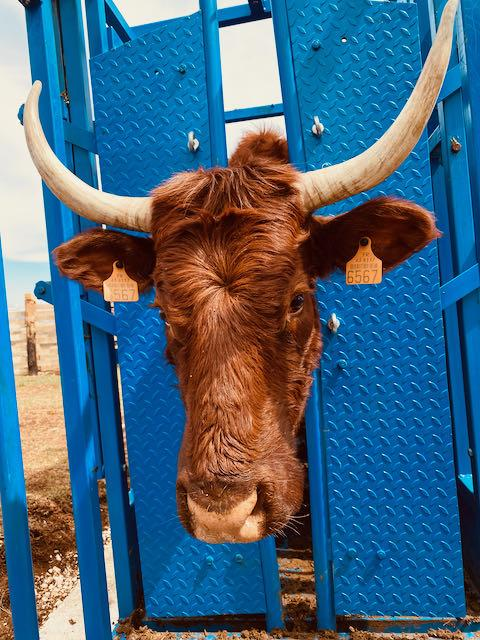muzzles: (171, 471, 286, 555)
